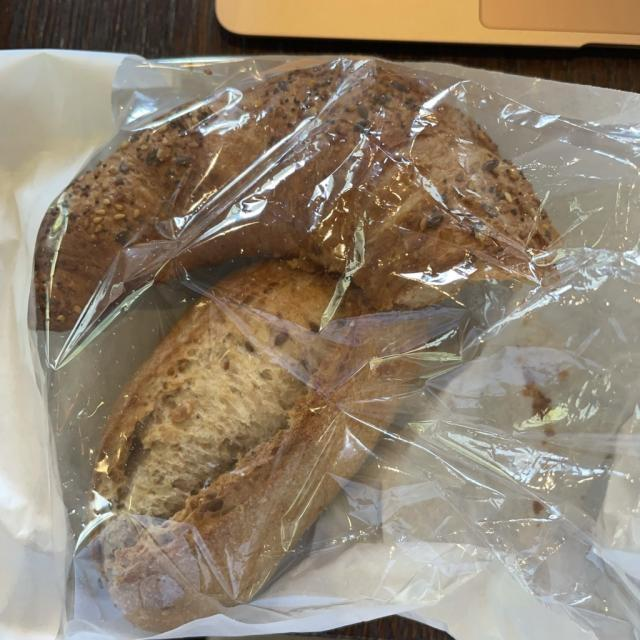bread: (84, 244, 428, 612)
croissant: (41, 73, 559, 335)
